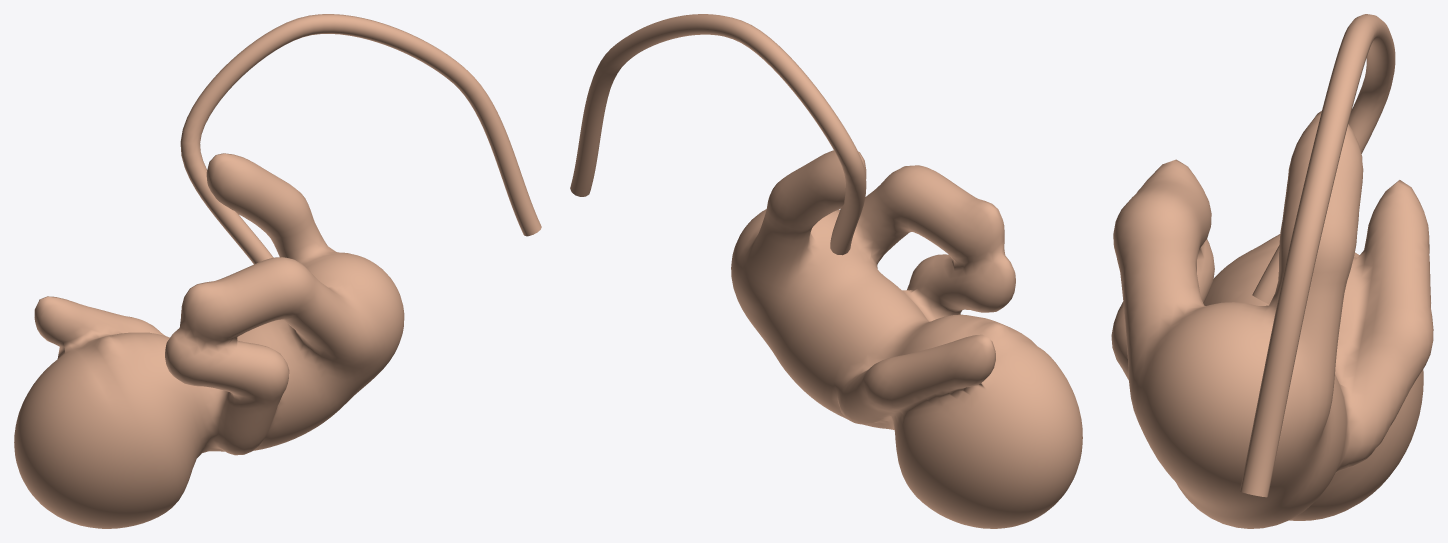
Rendered from junio.gltf.
The picture shows the model from 3 angles, left to right: view 1: azimuth 30°, elevation 25°; view 2: azimuth 150°, elevation 25°; view 3: azimuth 270°, elevation 25°; orthographic projection. The views are drawn at different scales.
Visible parts, largest first — view 1: Alessa_junio_continuous_surface, cord; view 2: Alessa_junio_continuous_surface, cord; view 3: Alessa_junio_continuous_surface, cord.
Part boxes in pixels (x1,y1,x2,y2): Alessa_junio_continuous_surface: (14, 153, 404, 528); cord: (180, 14, 541, 264); Alessa_junio_continuous_surface: (731, 150, 1082, 528); cord: (570, 14, 866, 255); Alessa_junio_continuous_surface: (1111, 111, 1433, 528); cord: (1240, 14, 1395, 497).
Bounding box in the file's own units: 1.96 × 1.65 × 0.7598.
